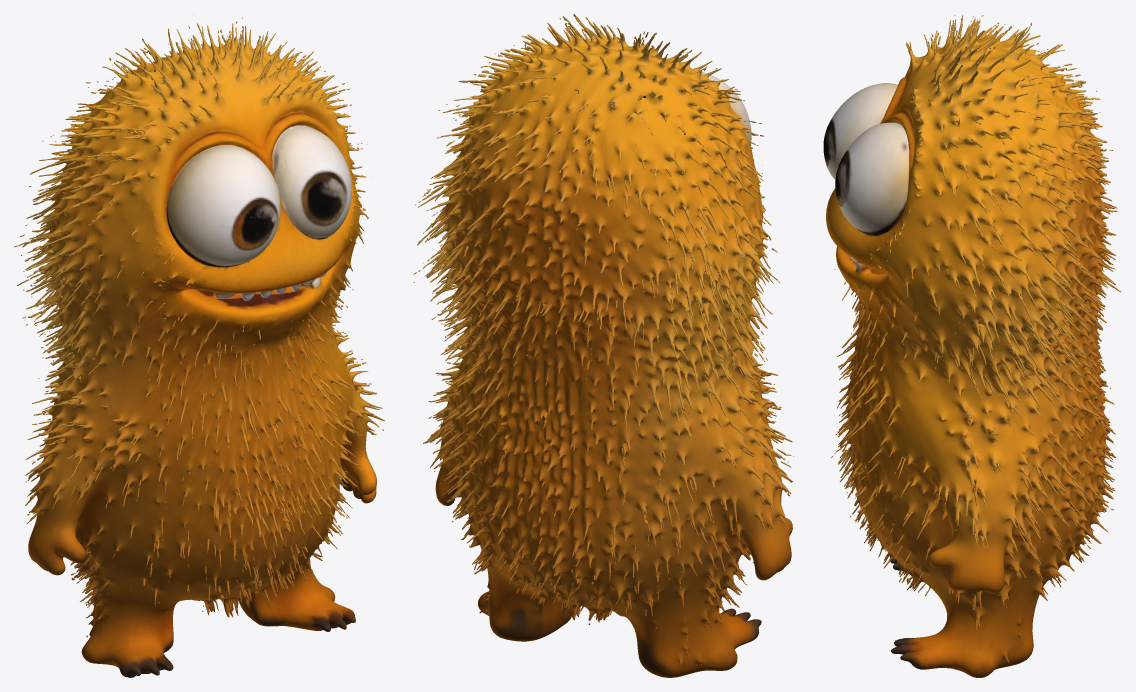
The model's file is stworek.glb.
3 views of the same model, side by side, from view 1: azimuth 30°, elevation 25°; view 2: azimuth 150°, elevation 25°; view 3: azimuth 270°, elevation 25° (orthographic). The views are drawn at different scales.
Parts seen in each view (by area): view 1: world; view 2: world; view 3: world.
Part boxes in pixels (x1=…): world: x1=14, y1=14, x2=384, y2=677; world: x1=413, y1=14, x2=793, y2=677; world: x1=823, y1=14, x2=1120, y2=677.
Bounding box in the file's own units: 0.6039 × 0.9895 × 0.4476.
Materials: 1 (1 with a texture image).
